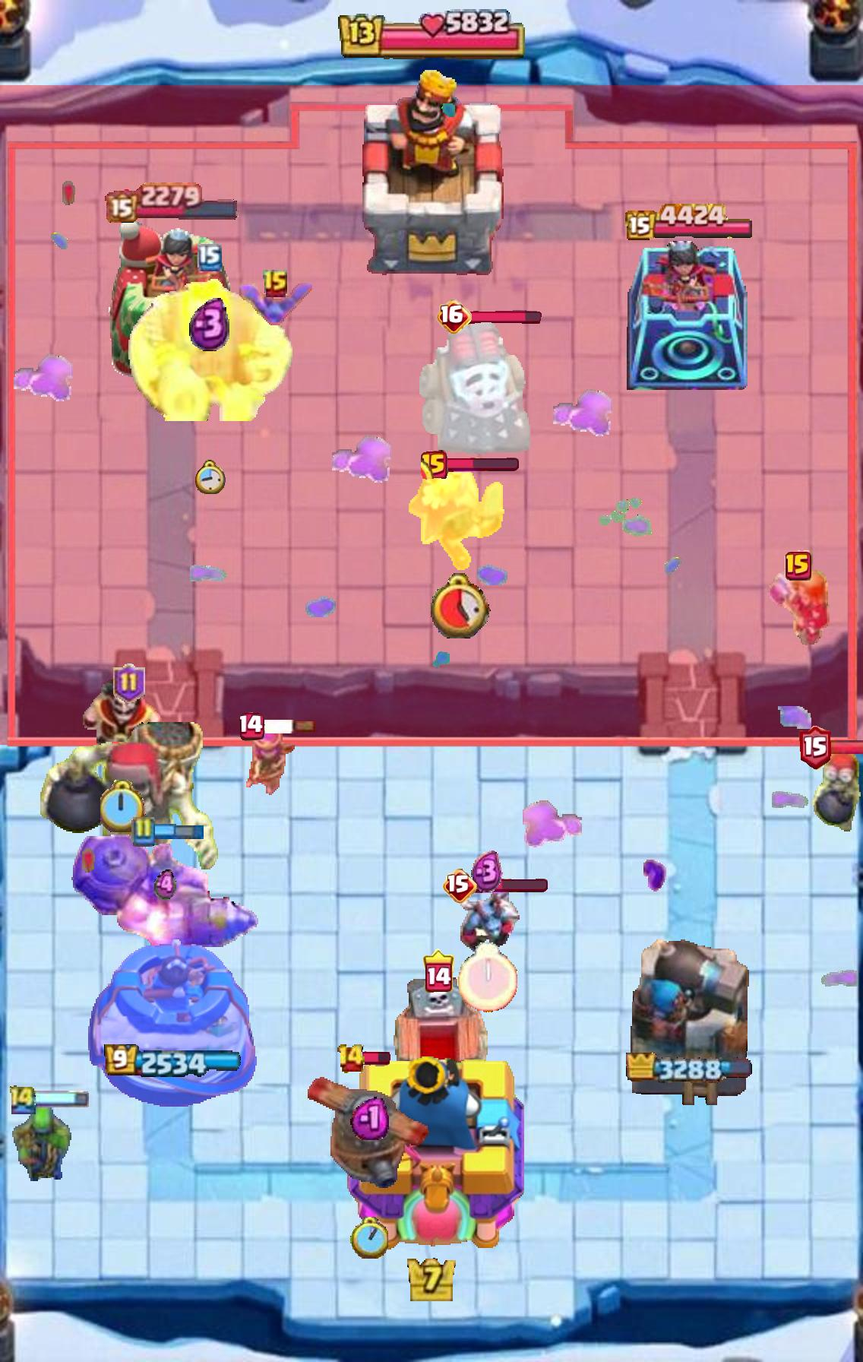bar: (189, 296, 231, 351), (350, 1094, 389, 1140), (471, 851, 503, 894), (155, 869, 177, 902)
